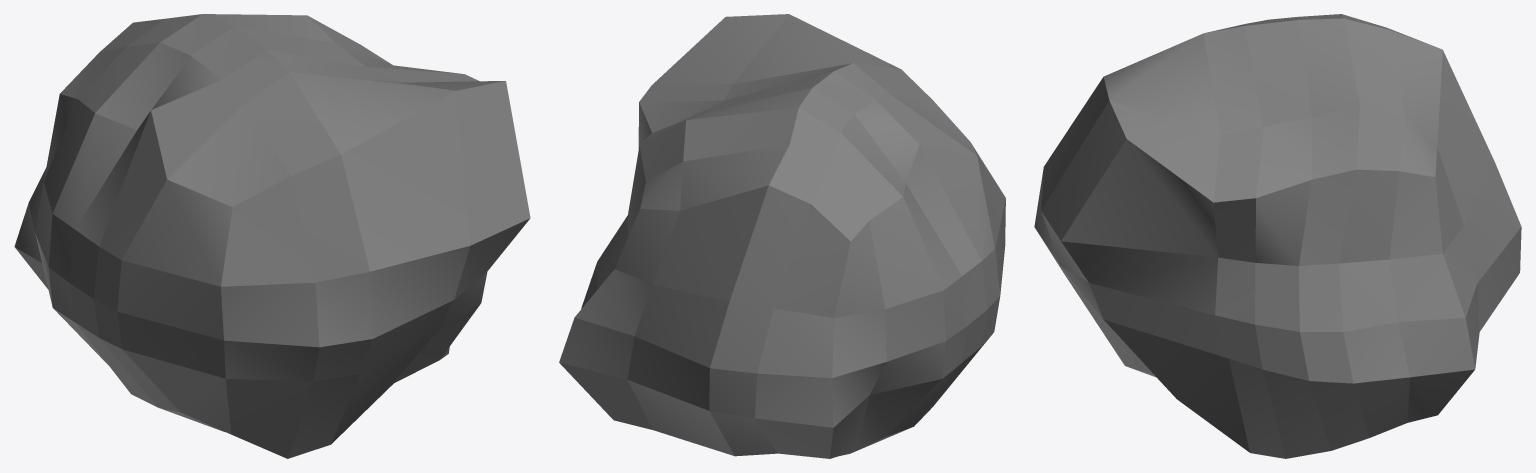
File: roughRock.fbx
3 views of the same model, side by side, from view 1: azimuth 30°, elevation 25°; view 2: azimuth 150°, elevation 25°; view 3: azimuth 270°, elevation 25° (orthographic). The views are drawn at different scales.
Parts seen in each view (by area): view 1: pCube1; view 2: pCube1; view 3: pCube1.
Boxes of the visible parts, bbox=[...] form: pCube1: bbox=[14, 14, 530, 458]; pCube1: bbox=[559, 14, 1005, 458]; pCube1: bbox=[1034, 14, 1521, 458].
Bounding box in the file's own units: 2.47 × 2.43 × 2.77.
1 material, 1 textured.
